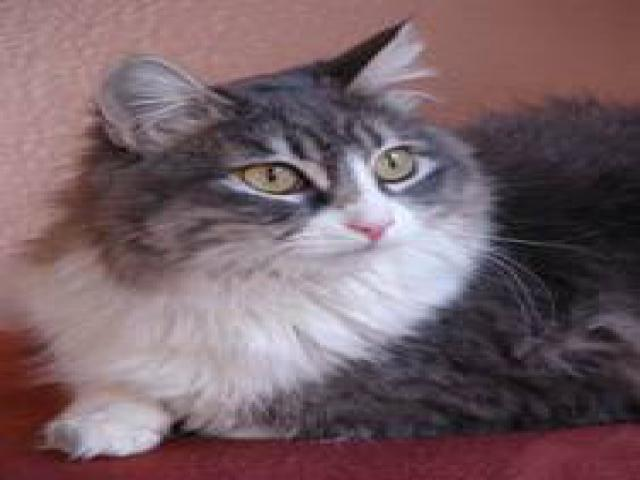cat: (11, 13, 634, 451)
